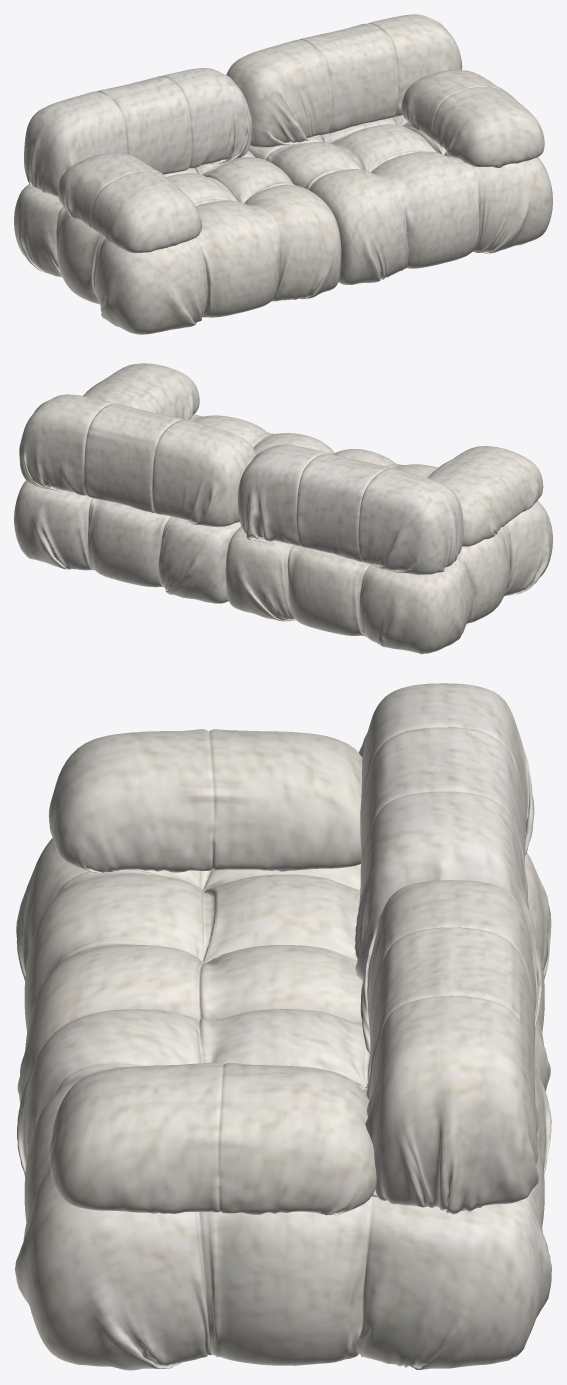
The model's file is CAMALEONDA-B-2M-1.glb.
3 renders of one model, top to bottom at view 1: azimuth 30°, elevation 25°; view 2: azimuth 150°, elevation 25°; view 3: azimuth 270°, elevation 25°, orthographic. The views are drawn at different scales.
Visible parts, largest first — view 1: MAIN; view 2: MAIN; view 3: MAIN.
Part boxes in pixels (x1,y1,x2,y2): MAIN: (14,14,552,334); MAIN: (14,363,552,654); MAIN: (15,683,551,1370).
Size of the model in its own units: 2 by 0.686 by 1.05.
1 material, 1 textured.
